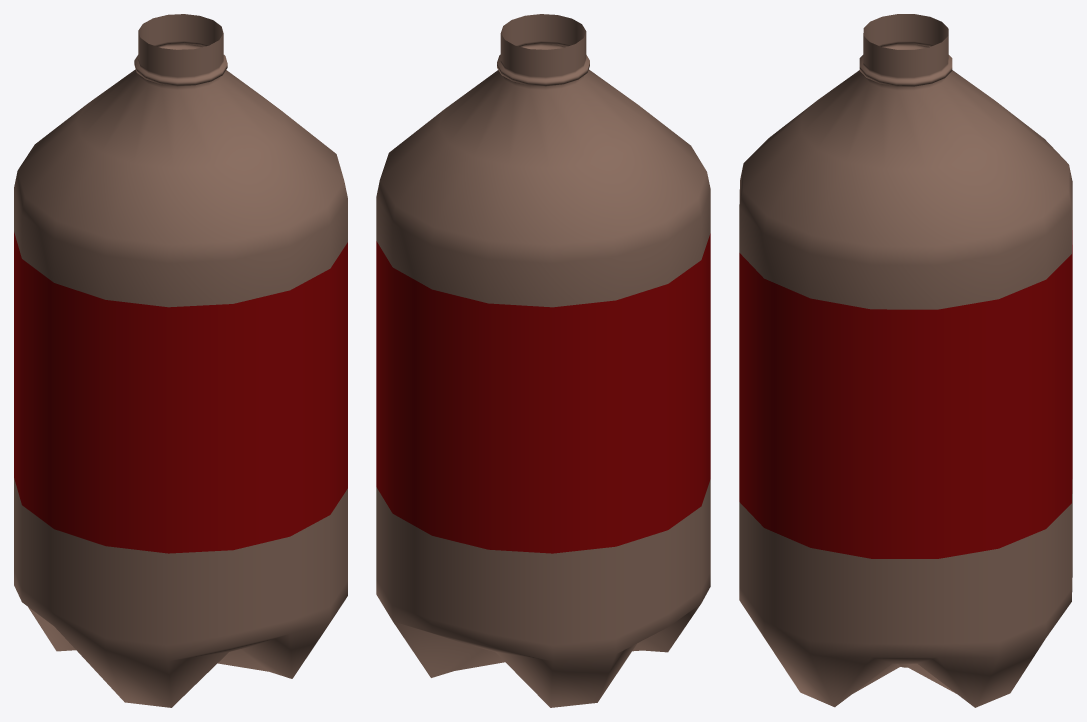
File: Mesh_SodaBottle_L.fbx
The picture shows the model from 3 angles, left to right: view 1: azimuth 30°, elevation 25°; view 2: azimuth 150°, elevation 25°; view 3: azimuth 270°, elevation 25°; orthographic projection.
Visible parts, largest first — view 1: SodaBottle_L; view 2: SodaBottle_L; view 3: SodaBottle_L.
Boxes of the visible parts, x1,y1,x2,y2 form: SodaBottle_L: [14, 14, 347, 707]; SodaBottle_L: [376, 14, 710, 707]; SodaBottle_L: [739, 14, 1072, 707].
Bounding box in the file's own units: 15.95 × 33.35 × 15.95.
